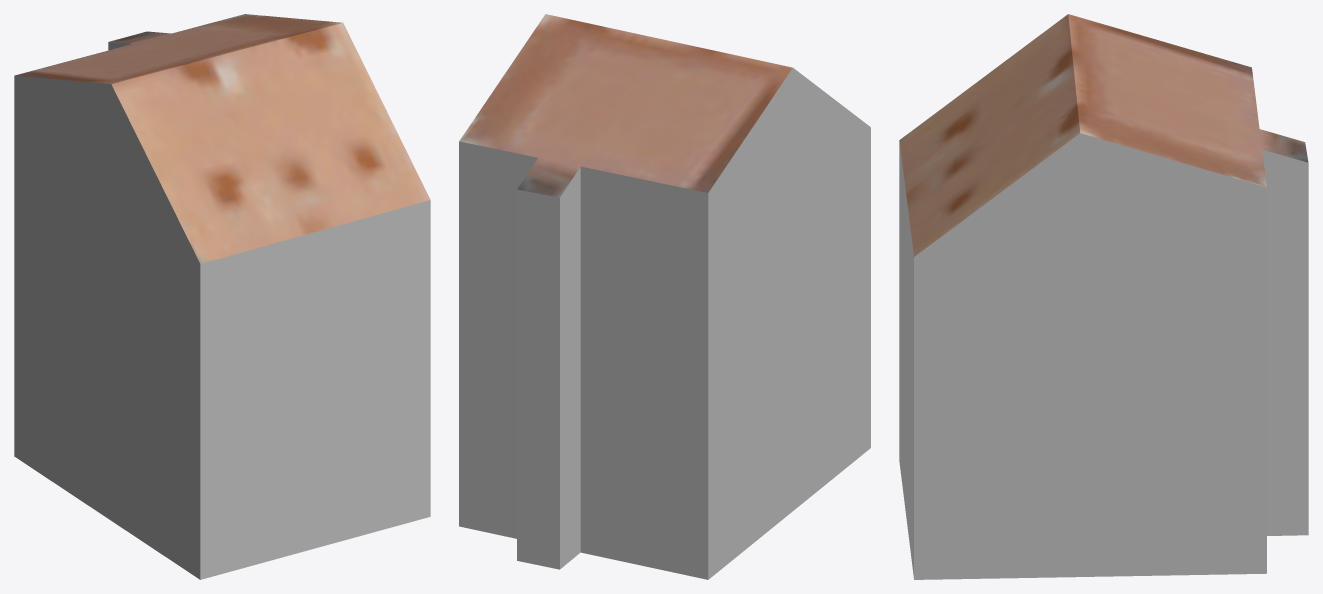
Rendered from DEBW_0010007Tx9i.gltf.
The picture shows the model from 3 angles, left to right: view 1: azimuth 30°, elevation 25°; view 2: azimuth 150°, elevation 25°; view 3: azimuth 270°, elevation 25°; orthographic projection.
Parts seen in each view (by area): view 1: Z_UP; view 2: Z_UP; view 3: Z_UP.
Boxes of the visible parts, x1=… form: Z_UP: x1=14, y1=14, x2=430, y2=579; Z_UP: x1=459, y1=14, x2=870, y2=579; Z_UP: x1=899, y1=14, x2=1308, y2=579.
Bounding box in the file's own units: 8.85 × 14.75 × 12.29.
Materials: 2 (1 with a texture image).
